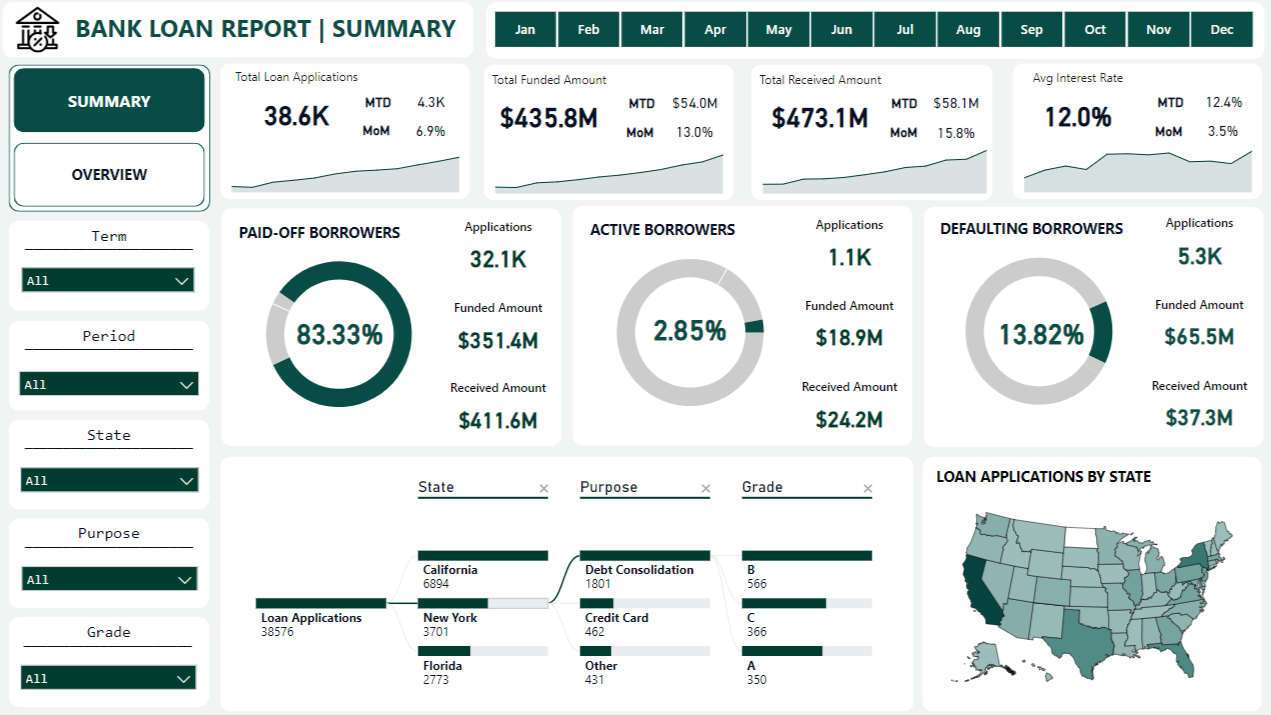

This screenshot's page, from the dashboard's own definition file:
{"tool":"powerbi","page":{"name":"SUMMARY","canvas":[1280,720],"ordinal":0},"visuals":[{"type":"group","id":"g1","title":"Group 10","box":[5.9,4.4,471.2,55.6],"z":0},{"type":"shape","box":[5.9,4.4,471.2,55.6],"z":0,"group":"g1"},{"type":"card","title":"Total Loan Applications","fields":{"Values":["loan_data.Total Loan Applications"]},"box":[231.2,71.4,138.1,77.6],"z":0,"group":"g19"},{"type":"card","title":"Avg Interest Rate","fields":{"Values":["loan_data.Avg Interest Rate"]},"box":[1016.1,71.8,130.7,76.1],"z":0,"group":"g20"},{"type":"card","title":"Total Received Amount","fields":{"Values":["loan_data.Total Received Amount"]},"box":[750.4,72.7,148,76.1],"z":0,"group":"g21"},{"type":"card","title":"Total Funded Amount","fields":{"Values":["loan_data.Total Funded Amount"]},"box":[487.9,73.7,130.8,76.1],"z":0,"group":"g22"},{"type":"shape","box":[576.9,209.3,340,240],"z":0,"group":"g3"},{"type":"shape","box":[225.4,210.7,339.9,238],"z":0,"group":"g13"},{"type":"group","id":"g2","title":"Group 7","box":[12.8,223.4,200.5,90.7],"z":0,"group":"g23"},{"type":"shape","box":[12.8,223.4,200.5,90],"z":0,"group":"g2"},{"type":"shape","box":[12.4,323.1,200.5,90],"z":0,"group":"g9"},{"type":"shape","box":[12.5,422.2,200.5,90],"z":0,"group":"g14"},{"type":"shape","box":[12.3,521.2,200.5,90],"z":0,"group":"g15"},{"type":"shape","box":[12.4,620.1,200.5,90],"z":0,"group":"g16"},{"type":"shape","box":[1016.1,65.9,249.7,136.1],"z":1000,"group":"g5"},{"type":"shape","box":[223.9,66.3,249.7,136.1],"z":1000,"group":"g7"},{"type":"shape","box":[756,67,241.5,136.1],"z":1000,"group":"g6"},{"type":"shape","box":[12.1,67.2,201.4,147.1],"z":1000,"group":"g24"},{"type":"shape","box":[487.9,67.8,249.9,136.1],"z":1000,"group":"g8"},{"type":"card","title":"MTD","fields":{"Values":["loan_data.MoM Avg Int Rate"]},"box":[1198.8,118.6,56.4,32.2],"z":1000,"group":"g20"},{"type":"card","title":"MTD","fields":{"Values":["loan_data.MoM Loan Application"]},"box":[406.7,118.9,56.4,32.2],"z":1000,"group":"g19"},{"type":"card","title":"MTD","fields":{"Values":["loan_data.MoM Received Amount"]},"box":[932.8,119.6,54.6,32.2],"z":1000,"group":"g21"},{"type":"card","title":"MTD","fields":{"Values":["loan_data.MoM Funded Amount"]},"box":[670.8,120.5,56.5,32.2],"z":1000,"group":"g22"},{"type":"shape","box":[927.6,209.9,340,239.9],"z":1000,"group":"g25"},{"type":"slicer","fields":{"Values":["loan_data.term"]},"box":[15.7,260,193.2,42.4],"z":1000,"group":"g23"},{"type":"slicer","title":"Select Measure","fields":{"Values":["loan_data.term"]},"box":[12,362.6,200.5,39.5],"z":1000,"group":"g9"},{"type":"image","box":[8.9,4.4,65.4,55.2],"z":2000,"group":"g1"},{"type":"shape","box":[490.2,4.4,778.5,57.1],"z":2000},{"type":"card","title":"MTD","fields":{"Values":["loan_data.MTD Average Int Rate"]},"box":[1191.4,92.3,72.8,27.8],"z":2000,"group":"g20"},{"type":"card","title":"MTD","fields":{"Values":["loan_data.MTD Loan Applications"]},"box":[399.2,92.6,72.8,27.8],"z":2000,"group":"g19"},{"type":"card","title":"MTD","fields":{"Values":["loan_data.MTD Received Amount"]},"box":[925.5,93.3,70.4,27.8],"z":2000,"group":"g21"},{"type":"card","title":"MTD","fields":{"Values":["loan_data.MTD Funded Amount"]},"box":[663.3,94.2,72.9,27.8],"z":2000,"group":"g22"},{"type":"textbox","box":[39.1,223.4,147.8,32.2],"z":2000,"group":"g2"},{"type":"textbox","box":[38.7,323.1,147.8,32.2],"z":2000,"group":"g9"},{"type":"textbox","box":[38.8,422.2,147.8,34.7],"z":2000,"group":"g14"},{"type":"textbox","box":[38.6,521.2,147.8,32.2],"z":2000,"group":"g15"},{"type":"textbox","box":[38.8,620.1,147.8,32.2],"z":2000,"group":"g16"},{"type":"slicer","fields":{"Values":["Date Table.Month"]},"box":[472.2,7.3,807.8,49.8],"z":3000},{"type":"textbox","box":[1155.6,89.8,46,30.7],"z":3000,"group":"g20"},{"type":"textbox","box":[363.4,90.1,46,30.7],"z":3000,"group":"g19"},{"type":"textbox","box":[890.9,90.8,44.5,30.7],"z":3000,"group":"g21"},{"type":"textbox","box":[627.5,91.7,46.1,30.7],"z":3000,"group":"g22"},{"type":"textbox","box":[17.2,230.7,190.2,30.7],"z":3000,"group":"g2"},{"type":"textbox","box":[16.7,330.4,190.2,30.7],"z":3000,"group":"g9"},{"type":"textbox","box":[16.9,430.1,190.2,33.2],"z":3000,"group":"g14"},{"type":"textbox","box":[16.7,528.5,190.2,30.7],"z":3000,"group":"g15"},{"type":"textbox","box":[7.1,627.1,207.8,30.7],"z":3000,"group":"g16"},{"type":"textbox","box":[73.6,9.7,410.2,51.9],"z":4000},{"type":"textbox","box":[1153.1,117.7,49,38],"z":4000,"group":"g20"},{"type":"textbox","box":[361,118,49,38],"z":4000,"group":"g19"},{"type":"textbox","box":[888.6,118.7,47.4,38],"z":4000,"group":"g21"},{"type":"textbox","box":[625.1,119.6,49.1,38],"z":4000,"group":"g22"},{"type":"shape","box":[223.9,459.5,693.7,254.6],"z":4000,"group":"g18"},{"type":"group","id":"g3","title":"Group 2","box":[576.9,209.3,340,240],"z":5000},{"type":"group","id":"g4","title":"Group 3","box":[927.6,209.9,340,239.9],"z":6000},{"type":"group","id":"g5","title":"Group 6","box":[1014.6,65.9,254,136.1],"z":7000},{"type":"group","id":"g6","title":"Group 6","box":[750.4,67,254.2,136.1],"z":8000},{"type":"group","id":"g7","title":"Group 6","box":[222.4,66.3,254,136.1],"z":9000},{"type":"group","id":"g8","title":"Group 6","box":[486.4,67.8,254,136.1],"z":10000},{"type":"group","id":"g9","title":"Group 7","box":[12,323.1,200.8,90],"z":11000},{"type":"group","id":"g10","title":"Group 8","box":[12.5,422.2,200.5,90],"z":12000},{"type":"group","id":"g11","title":"Group 8","box":[12.3,521.2,200.5,90],"z":13000},{"type":"card","title":"Received Amount","fields":{"Values":["loan_data.At_risk Borrowers Received amt"]},"box":[1148.3,379.6,109,65.2],"z":14000,"group":"g25"},{"type":"group","id":"g12","title":"Group 8","box":[7.1,620.1,207.8,90.7],"z":14000},{"type":"group","id":"g13","title":"Group 2","box":[225.4,210.7,339.9,238],"z":15000},{"type":"card","title":"Funded Amount","fields":{"Values":["loan_data.At_risk Borrowers Funded Amount"]},"box":[1148.3,298.6,109,65.2],"z":15000,"group":"g25"},{"type":"card","title":"Applications","fields":{"Values":["loan_data.At_risk Borrowers Loan Appl"]},"box":[1148.3,217.5,109,65.2],"z":16000,"group":"g25"},{"type":"group","id":"g14","title":"Group 7","box":[12.5,422.2,200.5,90],"z":16000,"group":"g10"},{"type":"shape","box":[926.3,459.5,339.5,254.6],"z":16000},{"type":"decompositionTreeVisual","fields":{"Analyze":["loan_data.Total Loan Applications"],"ExplainBy":["loan_data.address_state","loan_data.purpose","loan_data.grade"]},"box":[230.6,464.5,682,243.6],"z":16000,"group":"g18"},{"type":"group","id":"g15","title":"Group 7","box":[12.3,521.2,200.5,90],"z":16000,"group":"g11"},{"type":"group","id":"g16","title":"Group 7","box":[7.1,620.1,207.8,90],"z":16000,"group":"g17"},{"type":"group","id":"g17","title":"Group 1","box":[7.1,620.1,207.8,90],"z":16001,"group":"g12"},{"type":"slicer","fields":{"Values":["loan_data.address_state"]},"box":[14,460.2,199,41],"z":16500,"group":"g10"},{"type":"slicer","fields":{"Values":["loan_data.purpose"]},"box":[15.2,559.2,196.1,41],"z":16500,"group":"g11"},{"type":"slicer","fields":{"Values":["loan_data.grade"]},"box":[13.9,658.1,196.1,41],"z":16500,"group":"g17"},{"type":"donutChart","fields":{"Category":["loan_data.loan_status"],"Y":["loan_data.Total Loan Applications"]},"box":[937.6,236.9,210.9,193.9],"z":17000,"group":"g25"},{"type":"shapeMap","title":"LOAN APPLICATIONS BY STATE","fields":{"Value":["loan_data.Total Loan Applications"],"Category":["loan_data.address_state"]},"box":[935.1,468.3,322,242.9],"z":17000},{"type":"card","fields":{"Values":["loan_data.At_risk Borrower %"]},"box":[994.1,315.3,102.4,42.4],"z":18000,"group":"g25"},{"type":"group","id":"g18","title":"Group 9","box":[223.9,459.5,693.7,254.6],"z":18000},{"type":"group","id":"g19","title":"Group 4","box":[231.2,71.4,240.8,84.7],"z":19000,"group":"g7"},{"type":"group","id":"g20","title":"Group 4","box":[1016.1,71.8,248.1,83.4],"z":19000,"group":"g5"},{"type":"group","id":"g21","title":"Group 4","box":[750.4,72.7,245.5,84.1],"z":19000,"group":"g6"},{"type":"group","id":"g22","title":"Group 4","box":[487.9,73.7,248.3,83.4],"z":19000,"group":"g8"},{"type":"group","id":"g23","title":"Group 11","box":[12.8,223.4,200.5,90.7],"z":19000},{"type":"pageNavigator","box":[16.9,71.1,191.8,138.7],"z":20000,"group":"g24"},{"type":"textbox","box":[938.4,216.7,204.9,45.4],"z":20000,"group":"g25"},{"type":"group","id":"g24","title":"Group 12","box":[12.1,67.2,201.4,147.1],"z":20001},{"type":"group","id":"g25","title":"Group 5","box":[927.6,209.9,340,239.9],"z":20001,"group":"g4"},{"type":"card","title":"Received Amount","fields":{"Values":["loan_data.Paid_off Borrowers Received amt"]},"box":[447.9,381.9,109,64.6],"z":21000,"group":"g13"},{"type":"card","title":"Received Amount","fields":{"Values":["loan_data.Active Borrowers Received Amt"]},"box":[799.4,381.9,109,65.2],"z":21000,"group":"g3"},{"type":"card","title":"Funded Amount","fields":{"Values":["loan_data.Active Borrowers Funded Amt"]},"box":[799.4,300.9,109,65.2],"z":22000,"group":"g3"},{"type":"card","title":"Funded Amount","fields":{"Values":["loan_data.Paid_off Borrowers Funded Amount"]},"box":[447.9,301.5,109,64.6],"z":22000,"group":"g13"},{"type":"areaChart","fields":{"Category":["Date Table.Month"],"Y":["loan_data.Avg Interest Rate"]},"box":[1014.6,136.1,254,64.4],"z":23000,"group":"g5"},{"type":"areaChart","fields":{"Category":["Date Table.Month"],"Y":["loan_data.Total Loan Applications"]},"box":[222.4,136.5,254,64.4],"z":23000,"group":"g7"},{"type":"areaChart","fields":{"Category":["Date Table.Month"],"Y":["loan_data.Total Received Amount"]},"box":[754.6,137.2,250,64.4],"z":23000,"group":"g6"},{"type":"areaChart","fields":{"Category":["Date Table.Month"],"Y":["loan_data.Total Funded Amount"]},"box":[486.4,138,254,64.4],"z":23000,"group":"g8"},{"type":"card","title":"Applications","fields":{"Values":["loan_data.Active Borrowers Loan App"]},"box":[799.4,219.8,109,65.2],"z":23000,"group":"g3"},{"type":"card","title":"Applications","fields":{"Values":["loan_data.Paid_off Loan Applications"]},"box":[447.9,221.1,109,64.6],"z":23000,"group":"g13"},{"type":"donutChart","fields":{"Category":["loan_data.loan_status"],"Y":["loan_data.Total Loan Applications"]},"box":[588.8,239.2,210.9,193.9],"z":24000,"group":"g3"},{"type":"donutChart","fields":{"Category":["loan_data.loan_status"],"Y":["loan_data.Total Loan Applications"]},"box":[237.3,240.4,210.8,192.3],"z":24000,"group":"g13"},{"type":"textbox","box":[588.8,218.5,179.3,39.7],"z":25000,"group":"g3"},{"type":"textbox","box":[237.3,219.9,179.3,39.4],"z":25000,"group":"g13"},{"type":"card","fields":{"Values":["loan_data.Active Borrowers %"]},"box":[645,306.3,97.6,50.9],"z":30001,"group":"g3"},{"type":"card","fields":{"Values":["loan_data.Stable Borrowers %"]},"box":[292.7,314.6,102.4,42.4],"z":30001,"group":"g13"}]}

Visuals, with their boxes in screenshot pixels (x1, y1, x2, y2), scaled from the page's 1280x720 canvas onto the 1271x715 screenshot:
"Group 10" group: bbox=[6, 4, 474, 60]
shape: bbox=[6, 4, 474, 60]
"Total Loan Applications" card: bbox=[230, 71, 367, 148]
"Avg Interest Rate" card: bbox=[1009, 71, 1139, 147]
"Total Received Amount" card: bbox=[745, 72, 892, 148]
"Total Funded Amount" card: bbox=[484, 73, 614, 149]
shape: bbox=[573, 208, 910, 446]
shape: bbox=[224, 209, 561, 446]
"Group 7" group: bbox=[13, 222, 212, 312]
shape: bbox=[13, 222, 212, 311]
shape: bbox=[12, 321, 211, 410]
shape: bbox=[12, 419, 212, 509]
shape: bbox=[12, 518, 211, 607]
shape: bbox=[12, 616, 211, 705]
shape: bbox=[1009, 65, 1257, 201]
shape: bbox=[222, 66, 470, 201]
shape: bbox=[751, 67, 990, 202]
shape: bbox=[12, 67, 212, 213]
shape: bbox=[484, 67, 733, 202]
"MTD" card: bbox=[1190, 118, 1246, 150]
"MTD" card: bbox=[404, 118, 460, 150]
"MTD" card: bbox=[926, 119, 980, 151]
"MTD" card: bbox=[666, 120, 722, 152]
shape: bbox=[921, 208, 1259, 447]
slicer - loan_data.term: bbox=[16, 258, 207, 300]
"Select Measure" slicer: bbox=[12, 360, 211, 399]
image: bbox=[9, 4, 74, 59]
shape: bbox=[487, 4, 1260, 61]
"MTD" card: bbox=[1183, 92, 1255, 119]
"MTD" card: bbox=[396, 92, 469, 120]
"MTD" card: bbox=[919, 93, 989, 120]
"MTD" card: bbox=[659, 94, 731, 121]
textbox: bbox=[39, 222, 186, 254]
textbox: bbox=[38, 321, 185, 353]
textbox: bbox=[39, 419, 185, 454]
textbox: bbox=[38, 518, 185, 550]
textbox: bbox=[39, 616, 185, 648]
slicer - Date Table.Month: bbox=[469, 7, 1270, 57]
textbox: bbox=[1147, 89, 1193, 120]
textbox: bbox=[361, 89, 407, 120]
textbox: bbox=[885, 90, 929, 121]
textbox: bbox=[623, 91, 669, 122]
textbox: bbox=[17, 229, 206, 260]
textbox: bbox=[17, 328, 205, 359]
textbox: bbox=[17, 427, 206, 460]
textbox: bbox=[17, 525, 205, 555]
textbox: bbox=[7, 623, 213, 653]
textbox: bbox=[73, 10, 480, 61]
textbox: bbox=[1145, 117, 1194, 155]
textbox: bbox=[358, 117, 407, 155]
textbox: bbox=[882, 118, 929, 156]
textbox: bbox=[621, 119, 669, 157]
shape: bbox=[222, 456, 911, 709]
"Group 2" group: bbox=[573, 208, 910, 446]
"Group 3" group: bbox=[921, 208, 1259, 447]
"Group 6" group: bbox=[1007, 65, 1260, 201]
"Group 6" group: bbox=[745, 67, 998, 202]
"Group 6" group: bbox=[221, 66, 473, 201]
"Group 6" group: bbox=[483, 67, 735, 202]
"Group 7" group: bbox=[12, 321, 211, 410]
"Group 8" group: bbox=[12, 419, 212, 509]
"Group 8" group: bbox=[12, 518, 211, 607]
"Received Amount" card: bbox=[1140, 377, 1248, 442]
"Group 8" group: bbox=[7, 616, 213, 706]
"Group 2" group: bbox=[224, 209, 561, 446]
"Funded Amount" card: bbox=[1140, 297, 1248, 361]
"Applications" card: bbox=[1140, 216, 1248, 281]
"Group 7" group: bbox=[12, 419, 212, 509]
shape: bbox=[920, 456, 1257, 709]
decompositionTreeVisual - loan_data.Total Loan Applications x loan_data.address_state: bbox=[229, 461, 906, 703]
"Group 7" group: bbox=[12, 518, 211, 607]
"Group 7" group: bbox=[7, 616, 213, 705]
"Group 1" group: bbox=[7, 616, 213, 705]
slicer - loan_data.address_state: bbox=[14, 457, 212, 498]
slicer - loan_data.purpose: bbox=[15, 555, 210, 596]
slicer - loan_data.grade: bbox=[14, 654, 209, 694]
donutChart - loan_data.loan_status x loan_data.Total Loan Applications: bbox=[931, 235, 1140, 428]
"LOAN APPLICATIONS BY STATE" shapeMap: bbox=[929, 465, 1248, 706]
card - loan_data.At_risk Borrower %: bbox=[987, 313, 1089, 355]
"Group 9" group: bbox=[222, 456, 911, 709]
"Group 4" group: bbox=[230, 71, 469, 155]
"Group 4" group: bbox=[1009, 71, 1255, 154]
"Group 4" group: bbox=[745, 72, 989, 156]
"Group 4" group: bbox=[484, 73, 731, 156]
"Group 11" group: bbox=[13, 222, 212, 312]
pageNavigator: bbox=[17, 71, 207, 208]
textbox: bbox=[932, 215, 1135, 260]
"Group 12" group: bbox=[12, 67, 212, 213]
"Group 5" group: bbox=[921, 208, 1259, 447]
"Received Amount" card: bbox=[445, 379, 553, 443]
"Received Amount" card: bbox=[794, 379, 902, 444]
"Funded Amount" card: bbox=[794, 299, 902, 364]
"Funded Amount" card: bbox=[445, 299, 553, 364]
areaChart - Date Table.Month x loan_data.Avg Interest Rate: bbox=[1007, 135, 1260, 199]
areaChart - Date Table.Month x loan_data.Total Loan Applications: bbox=[221, 136, 473, 200]
areaChart - Date Table.Month x loan_data.Total Received Amount: bbox=[749, 136, 998, 200]
areaChart - Date Table.Month x loan_data.Total Funded Amount: bbox=[483, 137, 735, 201]
"Applications" card: bbox=[794, 218, 902, 283]
"Applications" card: bbox=[445, 220, 553, 284]
donutChart - loan_data.loan_status x loan_data.Total Loan Applications: bbox=[585, 238, 794, 430]
donutChart - loan_data.loan_status x loan_data.Total Loan Applications: bbox=[236, 239, 445, 430]
textbox: bbox=[585, 217, 763, 256]
textbox: bbox=[236, 218, 414, 257]
card - loan_data.Active Borrowers %: bbox=[640, 304, 737, 355]
card - loan_data.Stable Borrowers %: bbox=[291, 312, 392, 355]
